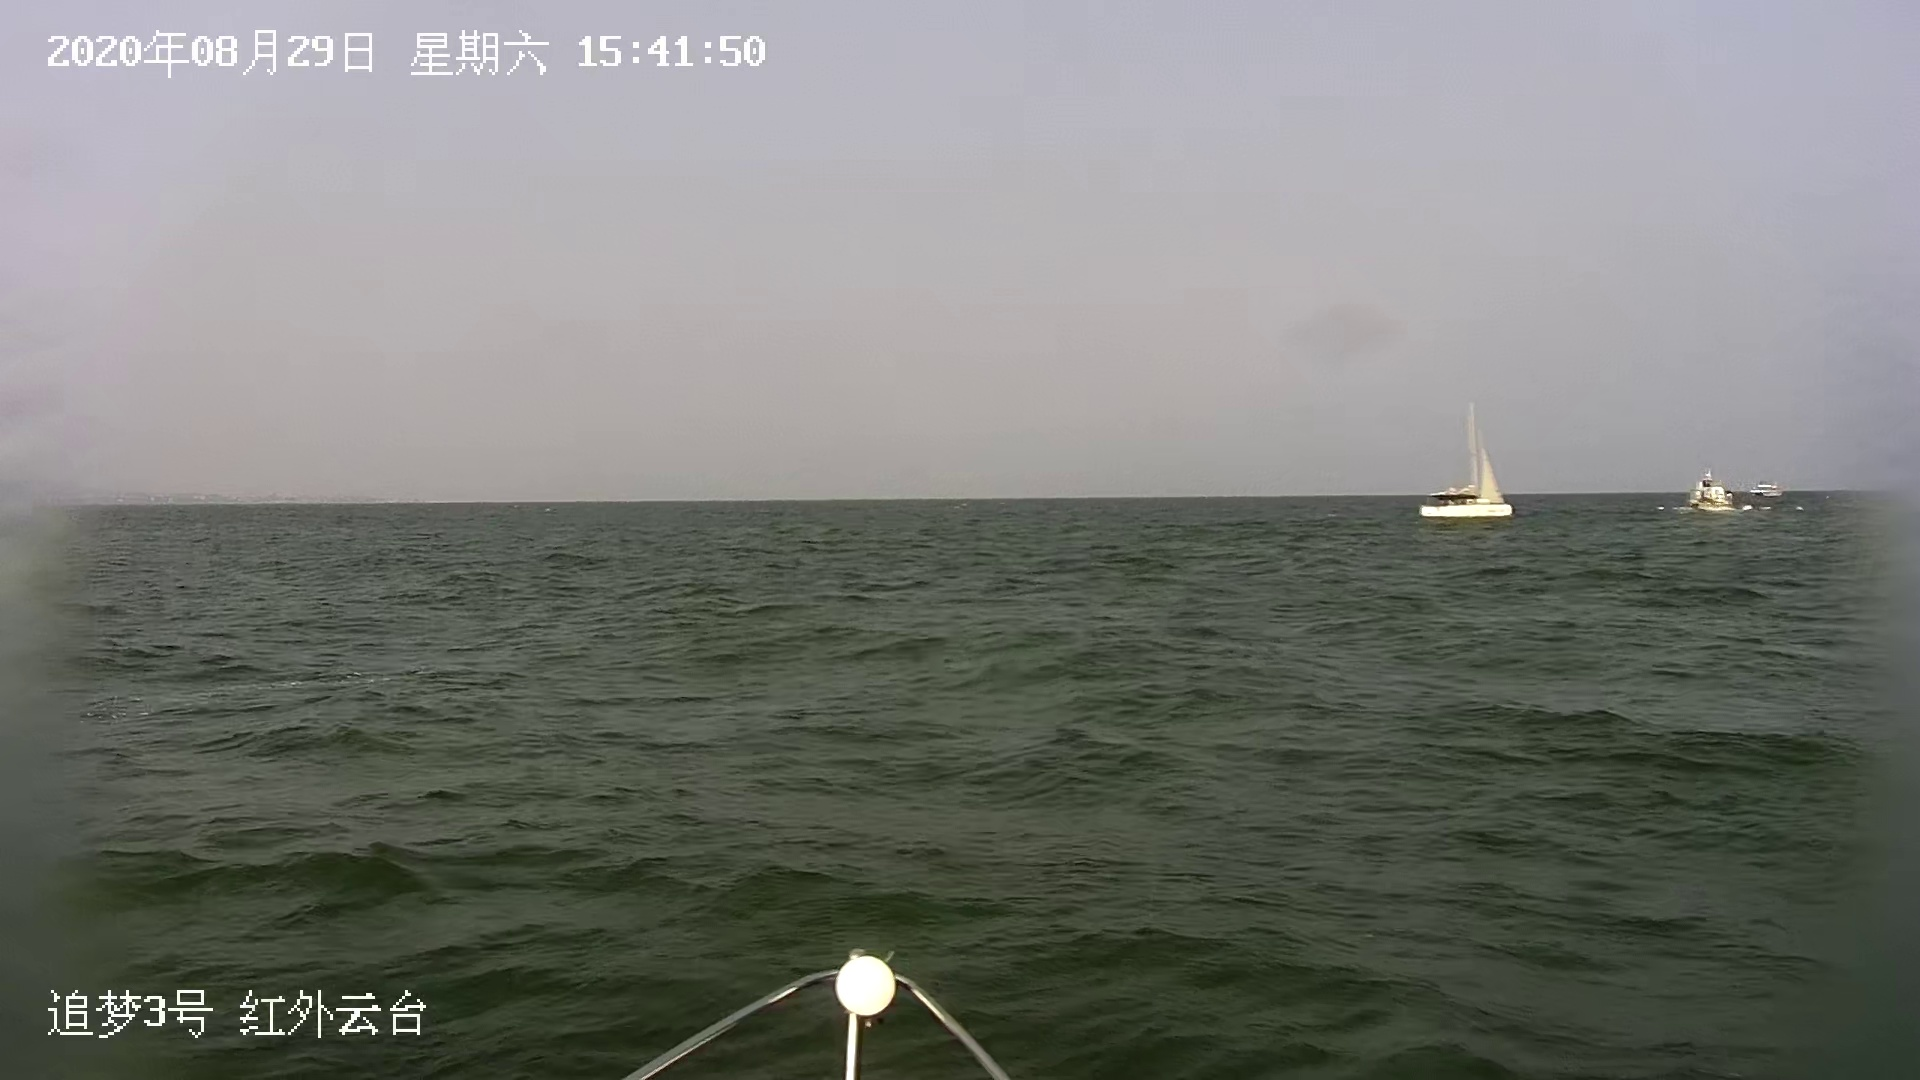barrier: (1422, 406, 1511, 517), (1683, 468, 1747, 517), (1750, 480, 1778, 495)
this: (617, 942, 1025, 1079)
